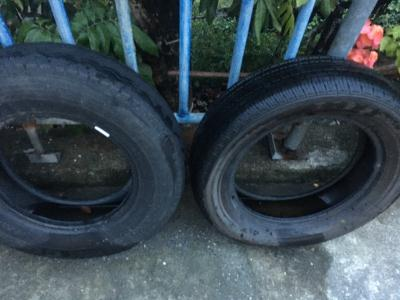tire: (184, 53, 400, 250), (1, 39, 188, 261)
